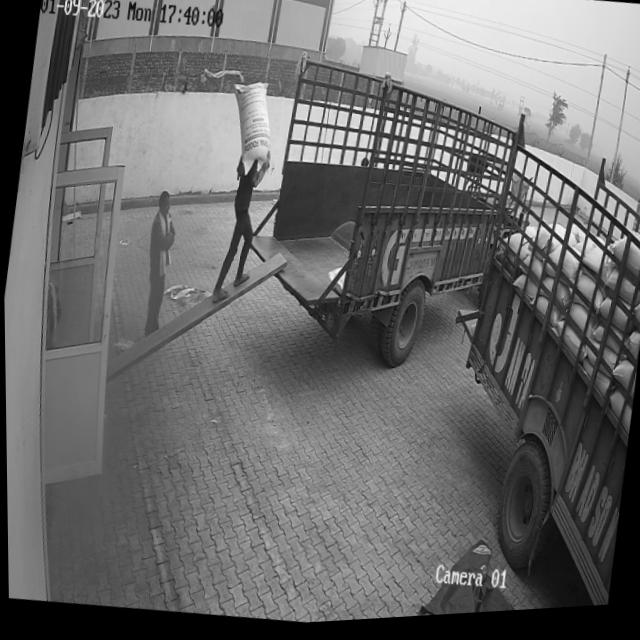sack: (223, 83, 278, 182)
